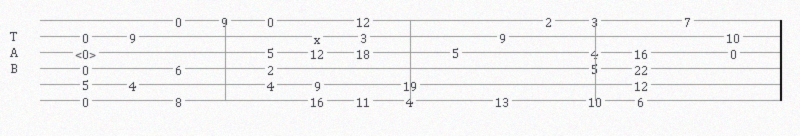0: (82, 62, 93, 75), (82, 94, 93, 107), (82, 30, 93, 43), (175, 14, 186, 27), (267, 14, 278, 27), (730, 46, 741, 59)
10: (588, 94, 606, 107), (726, 30, 744, 43)
11: (356, 94, 374, 107)
12: (310, 46, 328, 59), (356, 14, 374, 27), (634, 78, 652, 91)
13: (495, 94, 513, 107)
16: (310, 94, 328, 107), (634, 46, 652, 59)
18: (356, 46, 374, 59)
19: (403, 78, 421, 91)
2: (267, 62, 278, 75), (545, 14, 556, 27)
22: (634, 62, 652, 75)
3: (360, 30, 371, 43), (591, 14, 602, 27)
4: (129, 78, 140, 91), (267, 78, 278, 91), (406, 94, 417, 107), (591, 46, 602, 59)
5: (82, 77, 93, 91), (267, 45, 278, 59), (452, 45, 463, 59), (591, 61, 602, 75)
6: (175, 62, 186, 75), (637, 94, 648, 107)
7: (684, 14, 695, 27)
8: (175, 94, 186, 107)
9: (129, 30, 140, 43), (221, 14, 232, 27), (314, 78, 325, 91), (499, 30, 510, 43)
harmonic: (75, 46, 100, 59)
x: (314, 31, 324, 41)
